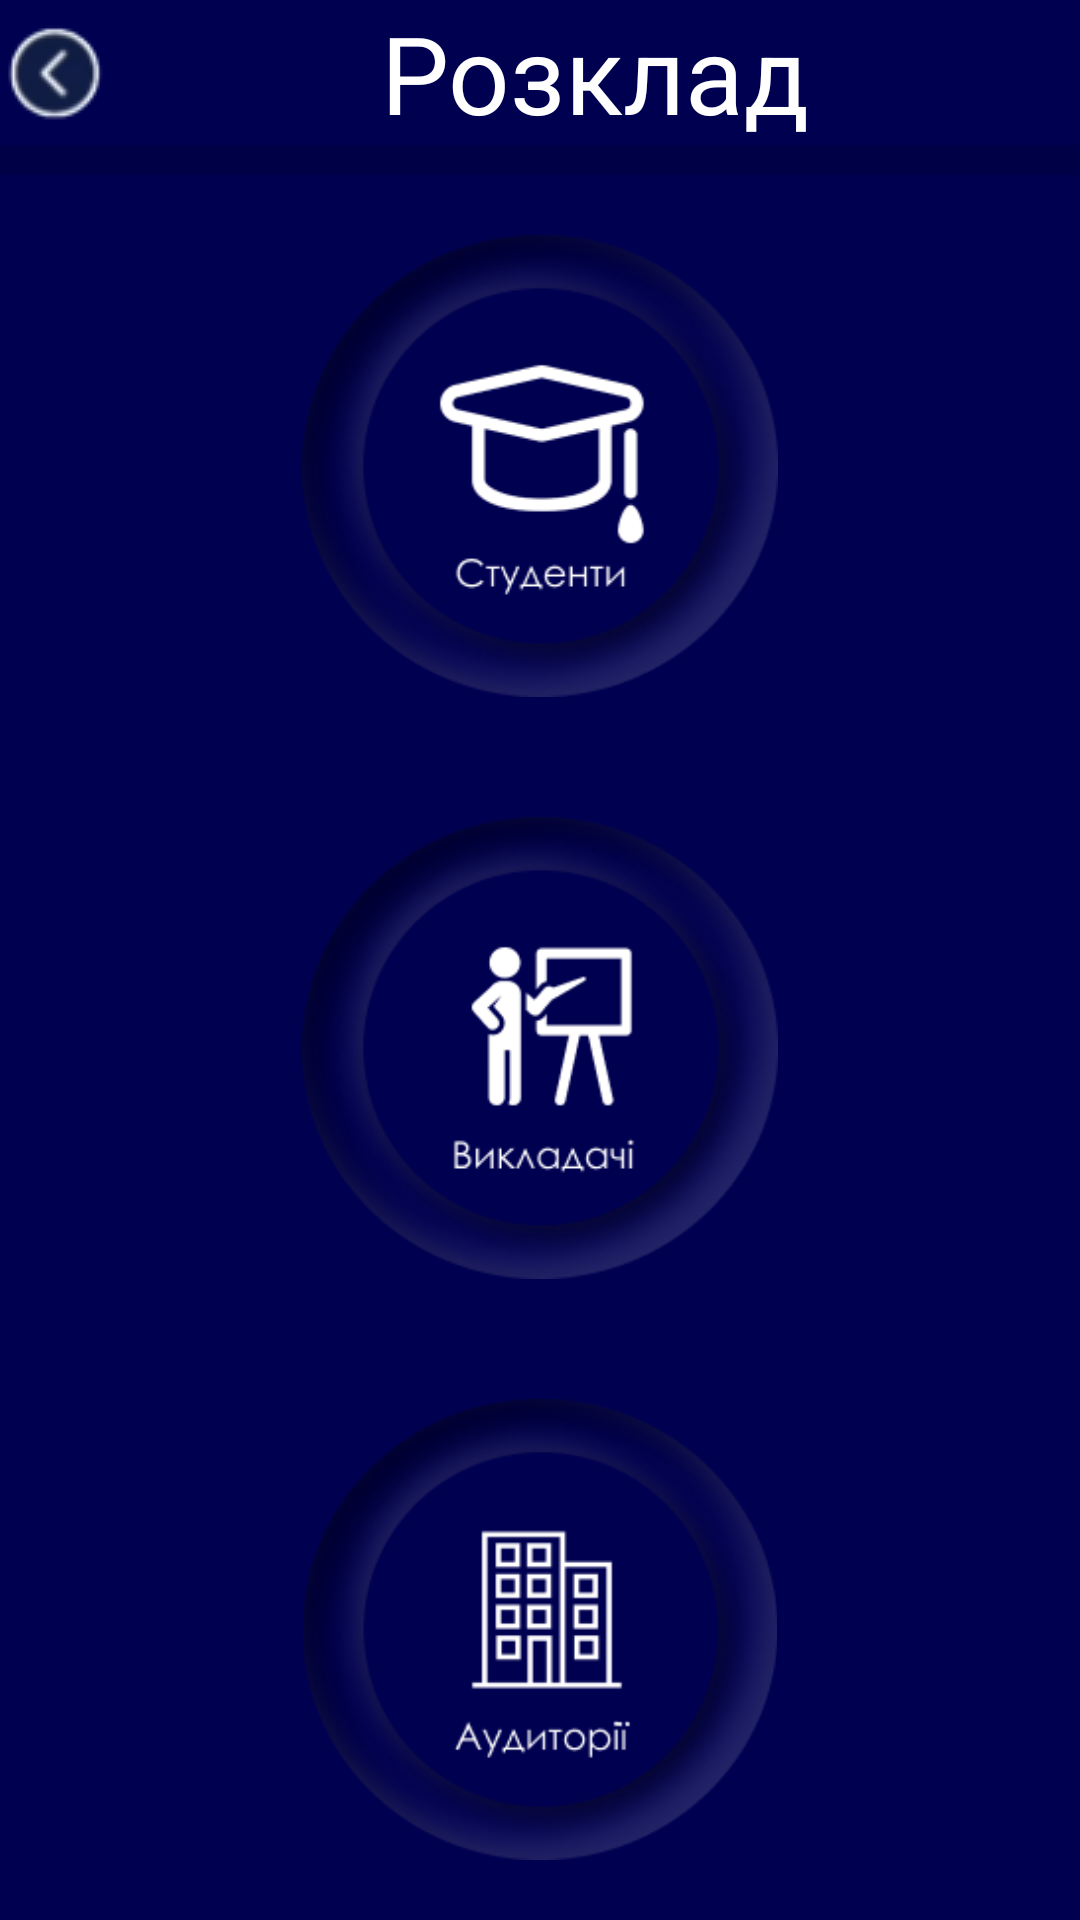

Icons on this 1080 x 1920 Android screen, each with its box as (x1, y1, x2, y2):
backbutton: (9, 28, 101, 119)
